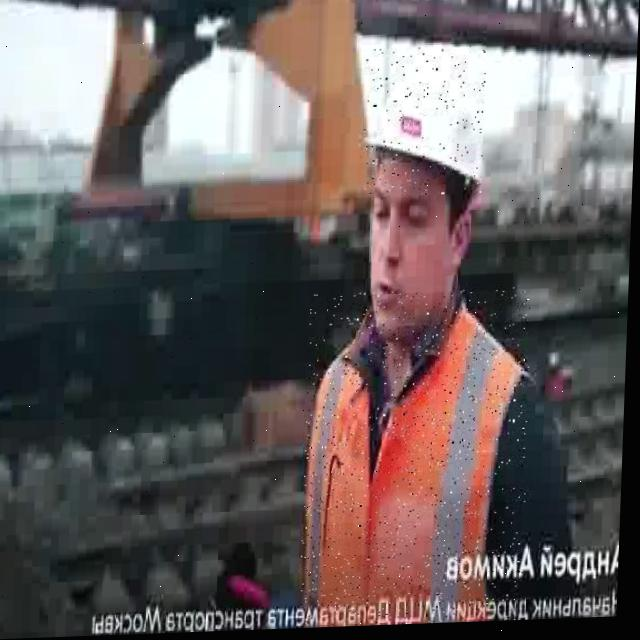Helmet: (360, 41, 492, 192)
Safety-Vest: (305, 306, 538, 631)
